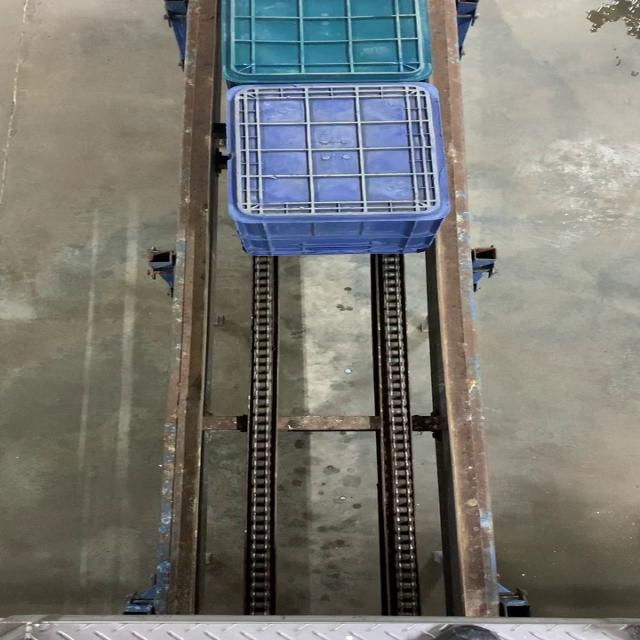Box: (226, 87, 442, 219)
